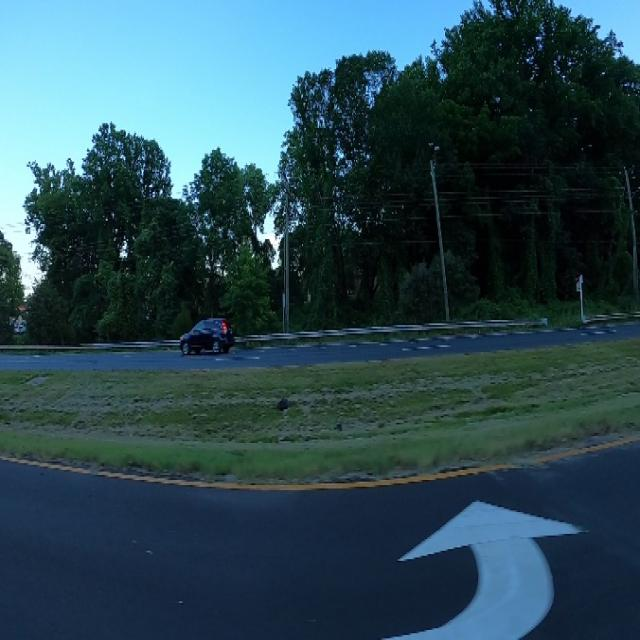cars: (178, 315, 238, 363)
